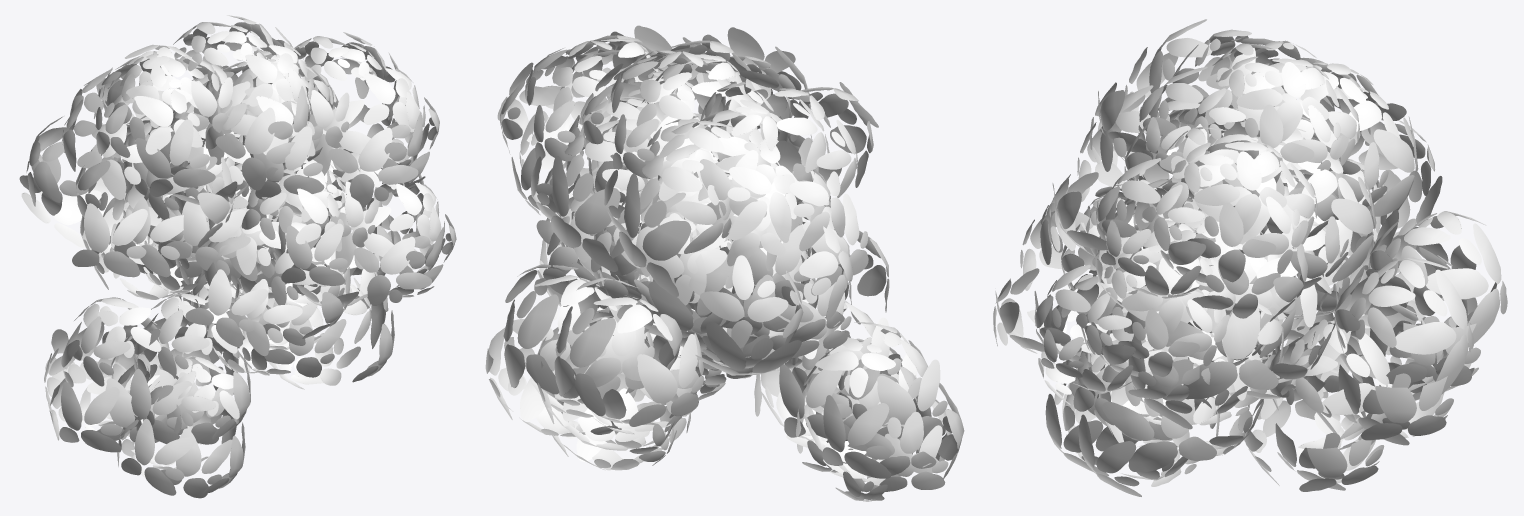
File: Bush.fbx
3 renders of one model, left to right at view 1: azimuth 30°, elevation 25°; view 2: azimuth 150°, elevation 25°; view 3: azimuth 270°, elevation 25°, orthographic. The views are drawn at different scales.
Parts seen in each view (by area): view 1: Plane.002; view 2: Plane.002; view 3: Plane.002.
Part boxes in pixels (x1,y1,x2,y2): Plane.002: (19, 15, 456, 498); Plane.002: (485, 25, 964, 501); Plane.002: (993, 19, 1507, 496).
Size of the model in its own units: 1218 by 1292 by 1258.
